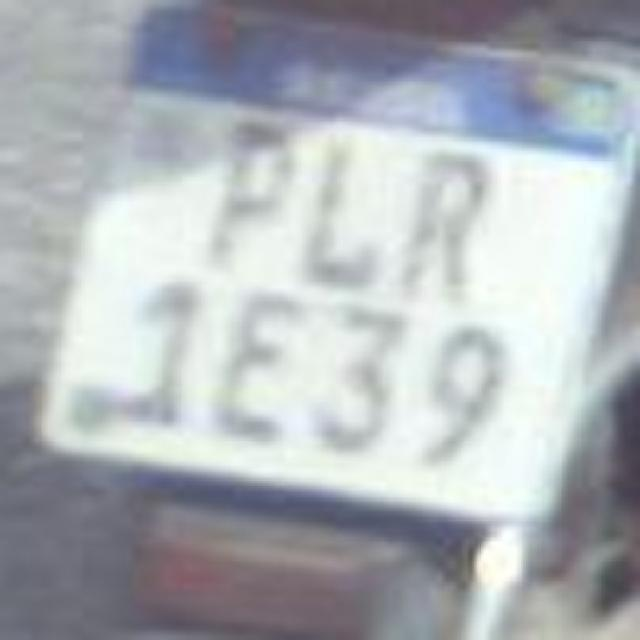1: (71, 255, 224, 440)
3: (260, 284, 445, 471)
9: (376, 305, 532, 500)
L: (280, 124, 420, 296)
P: (180, 108, 305, 280)
R: (372, 144, 516, 311)
